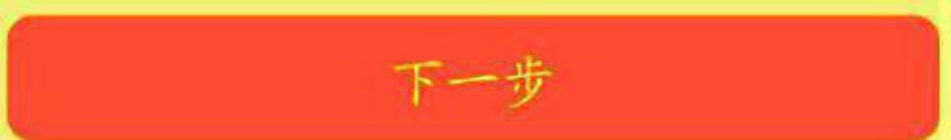Button: (1, 1, 950, 139)
